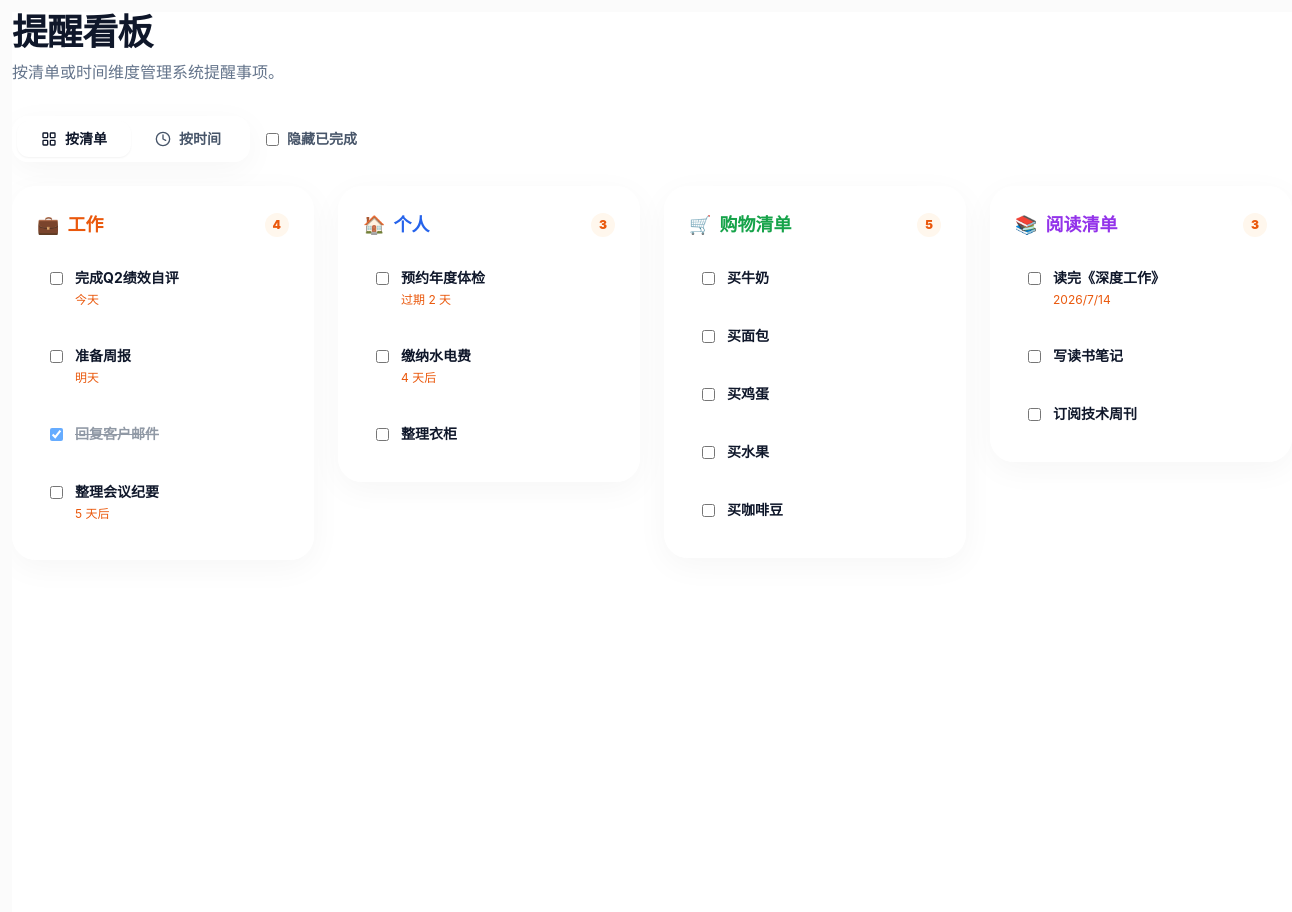
Test: RemindersView › By Time View › should display group icons with titles
The image size is (1292, 912).
# 切换到按时间视图
Click the button "按时间".
click(188, 139)  # box [131,121,245,157]
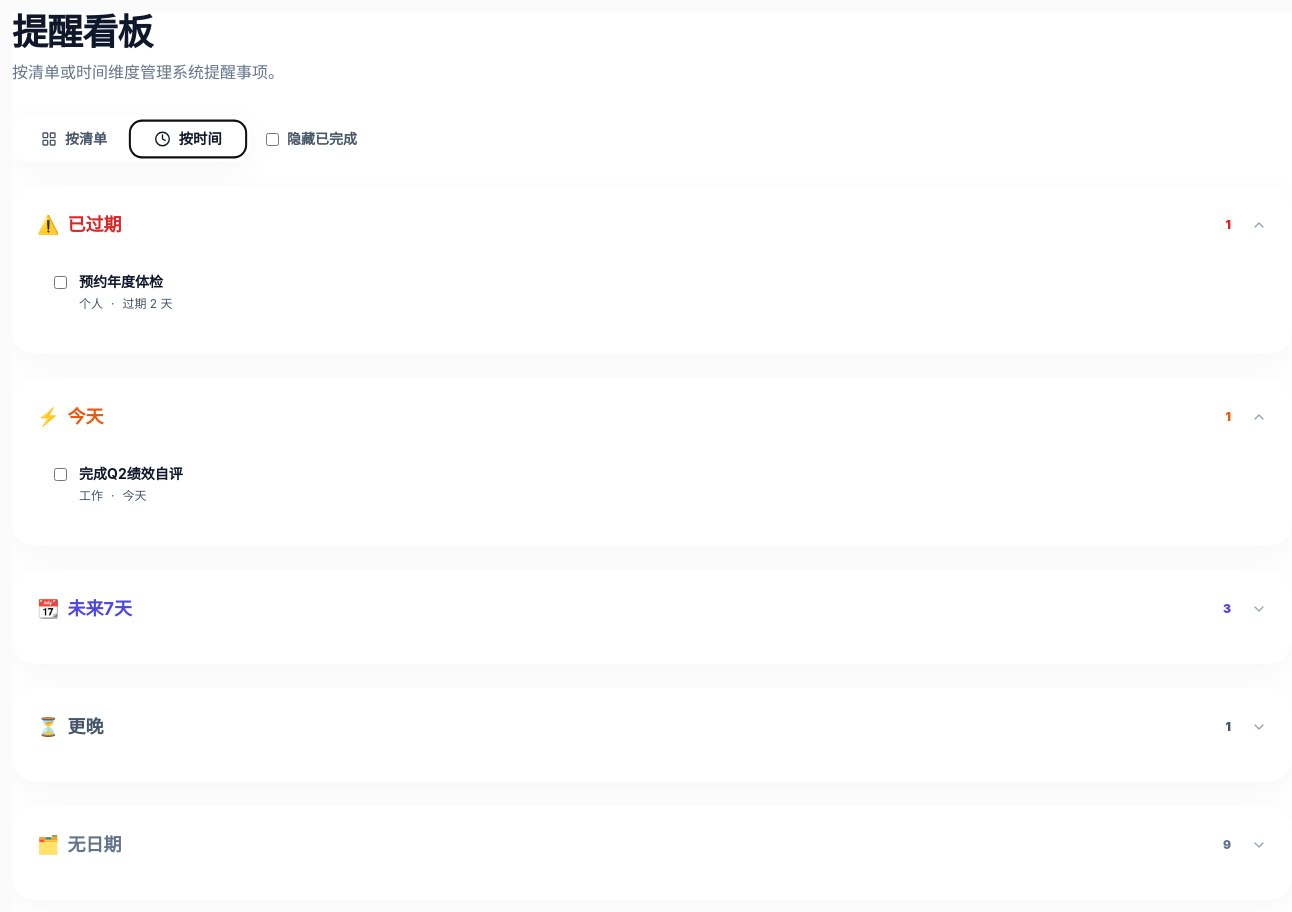
Check: the text "⚠️" is shown, box [37,211,60,239]
Check: the heading "⚠️ 已过期" is shown, box [37,211,122,239]
Check: the text "⚡️" is shown, box [37,403,60,431]
